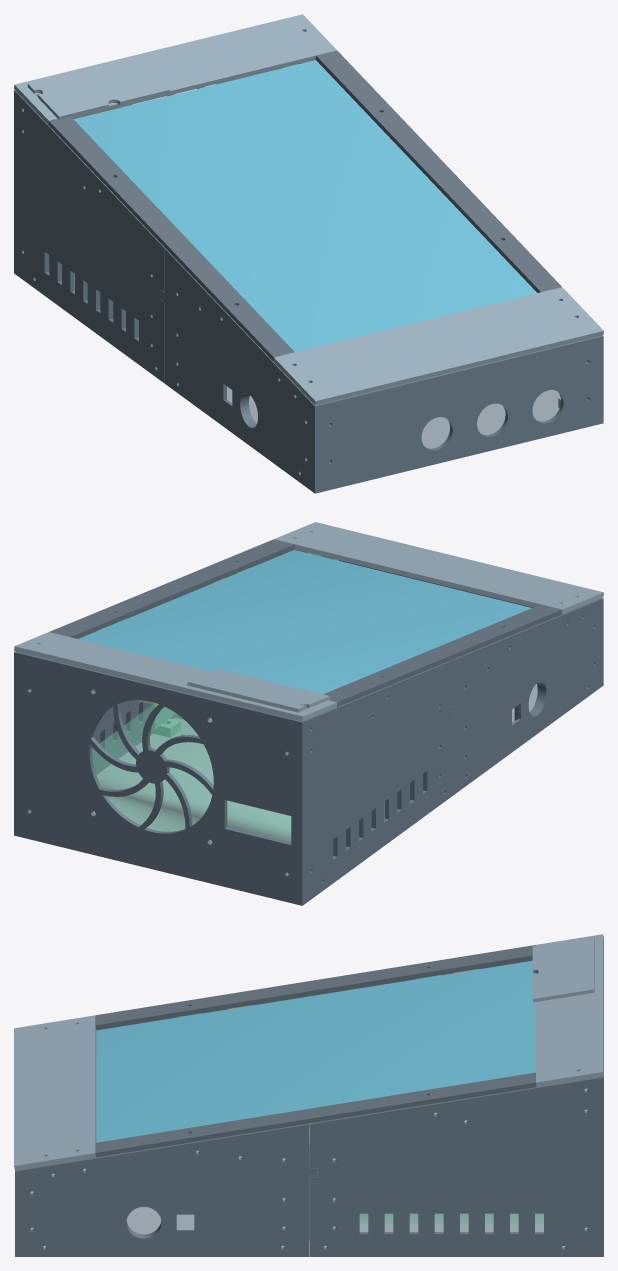
The model's file is cabinet.glb.
3 renders of one model, top to bottom at view 1: azimuth 30°, elevation 25°; view 2: azimuth 150°, elevation 25°; view 3: azimuth 270°, elevation 25°, orthographic. The views are drawn at different scales.
Visible parts, largest first — view 1: REFERENCE_Monitor, left_rear_wall, front_button_panel, left_front_wall, front_cable_lid, rear_control_deck, bezel_right_a1_a2, bezel_left_one_piece, control_hatch, bottom_front; view 2: rear_vent_panel, REFERENCE_Monitor, left_rear_wall, left_front_wall, front_cable_lid, REFERENCE_Dell_3050, bottom_rear, rear_control_deck, bezel_right_a1_a2, bezel_left_one_piece, right_rear_wall, control_hatch; view 3: REFERENCE_Monitor, right_rear_wall, right_front_wall, front_cable_lid, bezel_right_a1_a2, bezel_left_one_piece, rear_control_deck, control_hatch, bottom_rear, bottom_front, REFERENCE_Dell_3050.
Boxes of the visible parts, left/top/right/bottom form: REFERENCE_Monitor: left=73, top=60, right=536, bottom=352; left_rear_wall: left=14, top=90, right=164, bottom=383; front_button_panel: left=319, top=336, right=598, bottom=492; left_front_wall: left=160, top=248, right=319, bottom=493; front_cable_lid: left=273, top=287, right=603, bottom=405; rear_control_deck: left=14, top=14, right=336, bottom=124; bezel_right_a1_a2: left=315, top=50, right=561, bottom=292; bezel_left_one_piece: left=48, top=117, right=294, bottom=360; control_hatch: left=27, top=56, right=170, bottom=119; bottom_front: left=227, top=386, right=560, bottom=448; rear_vent_panel: left=18, top=652, right=299, bottom=904; REFERENCE_Monitor: left=78, top=550, right=531, bottom=694; left_rear_wall: left=298, top=660, right=452, bottom=905; left_front_wall: left=449, top=598, right=603, bottom=795; front_cable_lid: left=274, top=522, right=603, bottom=614; REFERENCE_Dell_3050: left=92, top=703, right=291, bottom=842; bottom_rear: left=93, top=725, right=384, bottom=842; rear_control_deck: left=14, top=632, right=337, bottom=721; bezel_right_a1_a2: left=49, top=539, right=294, bottom=638; bezel_left_one_piece: left=323, top=604, right=562, bottom=706; right_rear_wall: left=14, top=601, right=168, bottom=836; control_hatch: left=187, top=669, right=329, bottom=712; REFERENCE_Monitor: left=96, top=960, right=535, bottom=1142; right_rear_wall: left=309, top=1076, right=603, bottom=1256; right_front_wall: left=15, top=1123, right=316, bottom=1256; front_cable_lid: left=14, top=1015, right=96, bottom=1170; bezel_right_a1_a2: left=95, top=1072, right=536, bottom=1157; bezel_left_one_piece: left=95, top=945, right=535, bottom=1029; rear_control_deck: left=536, top=934, right=603, bottom=1086; control_hatch: left=532, top=936, right=594, bottom=1002; bottom_rear: left=359, top=1213, right=543, bottom=1231; bottom_front: left=126, top=1207, right=194, bottom=1234; REFERENCE_Dell_3050: left=359, top=1213, right=543, bottom=1223.
Bounding box in the file's own units: 0.26 × 0.1646 × 0.4707.
